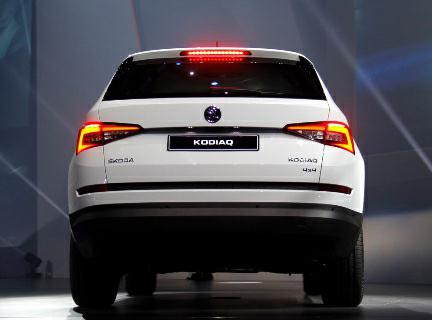沃尔沃-S40: (67, 45, 375, 317)
